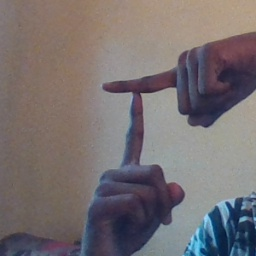T: (90, 58, 191, 181)
